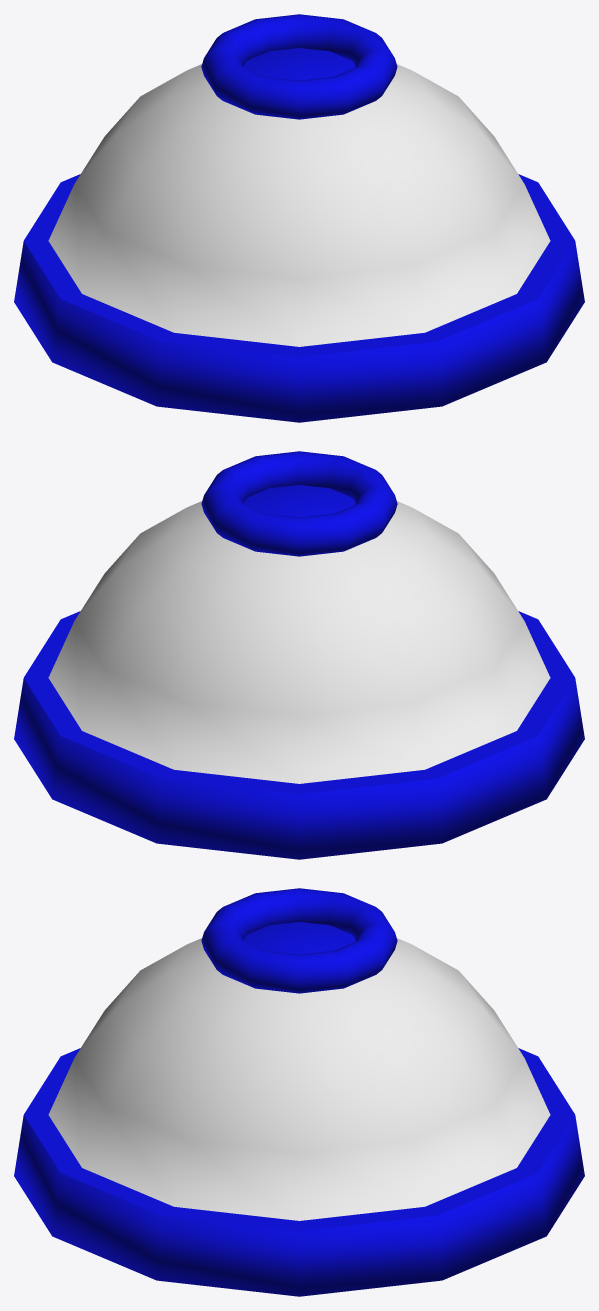
File: NLS_DUO Shoe.fbx
3 views of the same model, one above another, from view 1: azimuth 30°, elevation 25°; view 2: azimuth 150°, elevation 25°; view 3: azimuth 270°, elevation 25° (orthographic).
Parts seen in each view (by area): view 1: NLS_DUO Shoe; view 2: NLS_DUO Shoe; view 3: NLS_DUO Shoe.
Boxes of the visible parts, x1,y1,x2,y2 form: NLS_DUO Shoe: [14, 14, 584, 422]; NLS_DUO Shoe: [14, 451, 584, 859]; NLS_DUO Shoe: [14, 888, 584, 1296].
Size of the model in its own units: 43.78 by 21.4 by 43.78.
